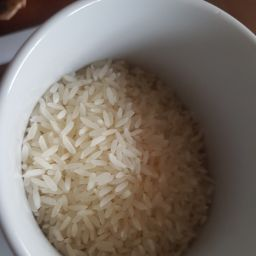Basmati rice: (1, 11, 256, 256)
